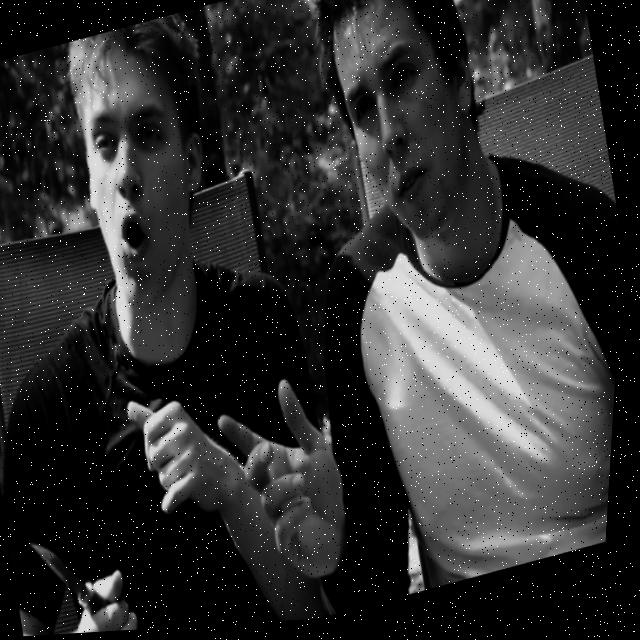knife: (22, 500, 179, 638)
